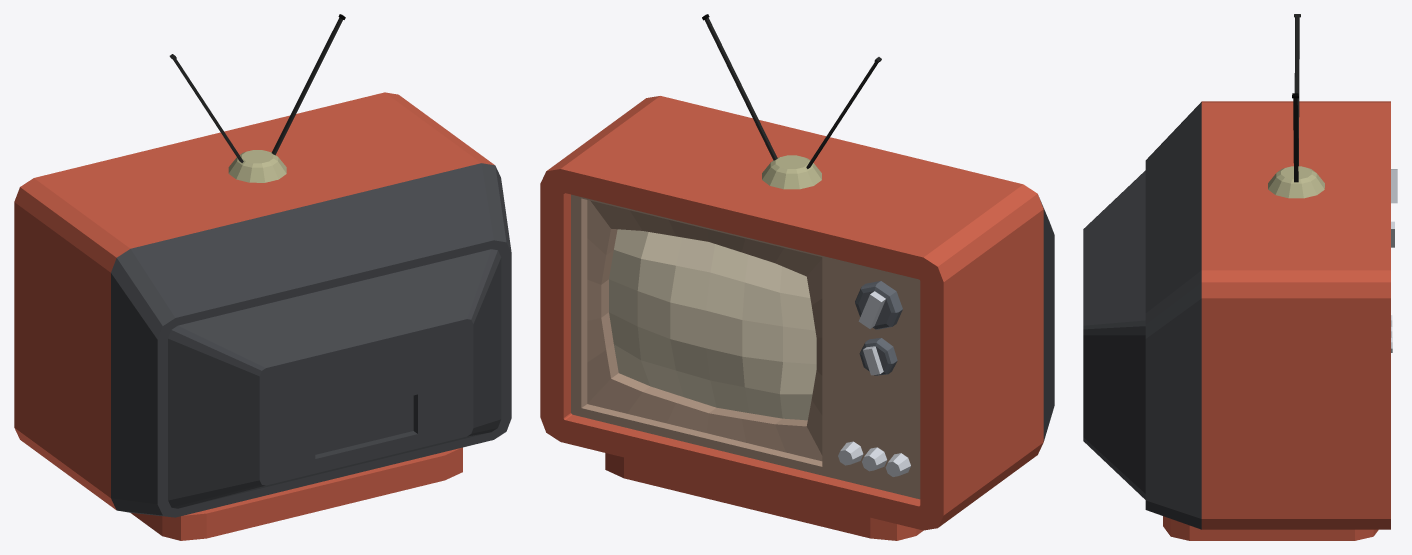
File: Television.fbx
3 renders of one model, left to right at view 1: azimuth 30°, elevation 25°; view 2: azimuth 150°, elevation 25°; view 3: azimuth 270°, elevation 25°, orthographic. The views are drawn at different scales.
Visible parts, largest first — view 1: TV; view 2: TV, Screen, Dial, Dial.004; view 3: TV.
Part boxes in pixels (<box>): TV: <box>14,14,511,540</box>; TV: <box>540,14,1054,540</box>; Screen: <box>609,229,816,420</box>; Dial: <box>855,281,902,329</box>; Dial.004: <box>859,338,897,375</box>; TV: <box>1083,14,1390,540</box>.
Size of the model in its own units: 159 by 113 by 165.
